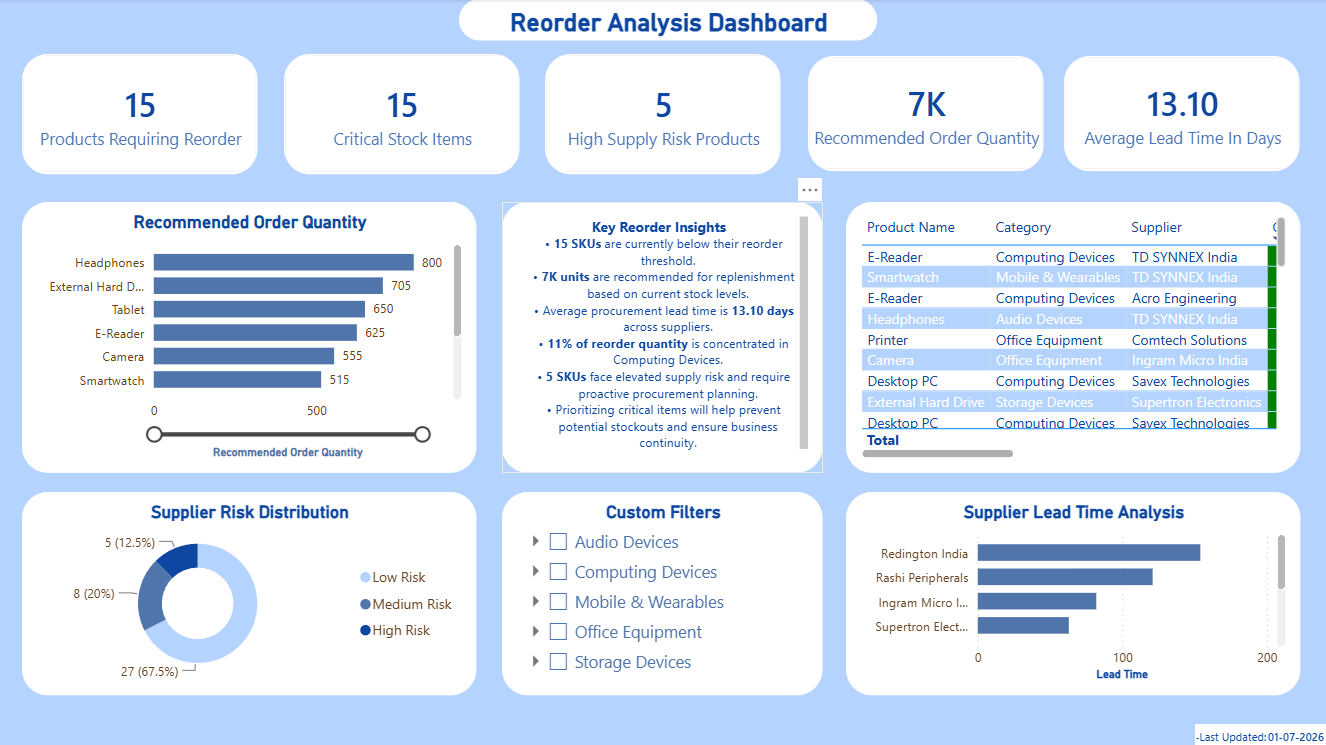

Layout of this report page (visuals, bound fields, positions):
{"tool":"powerbi","page":{"name":"REORDER ANALYSIS","canvas":[1280,720],"ordinal":4},"visuals":[{"type":"cardVisual","fields":{"Data":["public sales.Products Requiring Reorder"]},"box":[22.2,53,227.5,115.7],"z":0},{"type":"cardVisual","fields":{"Data":["public products.Last Updated"]},"box":[1222.9,698.8,57.4,21.4],"z":0,"group":"g1"},{"type":"cardVisual","fields":{"Data":["public sales.Total Recommended Order Quantity"]},"box":[779.8,54.9,227.5,110.8],"z":1000},{"type":"cardVisual","fields":{"Data":["public products.Last Updated"]},"box":[1152.8,698.8,70,21.4],"z":1000,"group":"g1"},{"type":"cardVisual","fields":{"Data":["public sales.Critical Stock Items"]},"box":[274.7,53,227.5,115.7],"z":2000},{"type":"cardVisual","fields":{"Data":["public sales.Average Lead Time"]},"box":[1026.5,54.9,227.5,110.8],"z":3000},{"type":"cardVisual","fields":{"Data":["public sales.High Supply Risk"]},"box":[526.3,53,227.5,115.7],"z":4000},{"type":"tableEx","fields":{"Values":["public products.productname","public products.category","public products.supplier","public inventory_dashboard.currentstock","public inventory_dashboard.reorderlevel","public inventory_dashboard.recommended_order_quantity","public inventory_dashboard.average_lead_time","public inventory_dashboard.supply_risk","public inventory_dashboard.reorder_status"]},"box":[816.4,195.7,437.6,261.2],"z":5000},{"type":"clusteredBarChart","title":"Recommended Order Quantity ","fields":{"Category":["public inventory_dashboard.productname","public products.category"],"Y":["Max(public inventory_dashboard.recommended_order_quantity)"]},"box":[22.2,195.7,437.6,261.2],"z":6000},{"type":"clusteredBarChart","title":"Supplier Lead Time Analysis","fields":{"Category":["public inventory_dashboard.supplier"],"Y":["Sum(public inventory_dashboard.average_lead_time)"]},"box":[816.4,475.2,437.6,195.7],"z":7000},{"type":"donutChart","title":"Supplier Risk Distribution","fields":{"Category":["public inventory_dashboard.supply_risk"],"Y":["CountNonNull(public inventory_dashboard.productid)"]},"box":[22.2,475.2,437.6,195.7],"z":8000},{"type":"slicer","title":"Custom Filters","fields":{"Values":["public inventory_dashboard.category","public inventory_dashboard.supplier","public inventory_dashboard.reorder_status","public inventory_dashboard.supply_risk"]},"box":[484.8,475.2,309.4,195.7],"z":9000},{"type":"textbox","box":[484.8,195.7,309.4,261.2],"z":10000},{"type":"textbox","title":"Reorder Analysis Dashboard","box":[443.4,0,402.9,39.5],"z":11000},{"type":"group","id":"g1","title":"Group 2","box":[1152.8,698.8,127.2,21.2],"z":11001}]}

Visuals, with their boxes in screenshot pixels (x1, y1, x2, y2), scaled from the page's 1280x720 canvas onto the 1326x745 screenshot:
cardVisual - public sales.Products Requiring Reorder: x1=23, y1=55, x2=259, y2=175
cardVisual - public products.Last Updated: x1=1267, y1=723, x2=1325, y2=744
cardVisual - public sales.Total Recommended Order Quantity: x1=808, y1=57, x2=1043, y2=171
cardVisual - public products.Last Updated: x1=1194, y1=723, x2=1267, y2=744
cardVisual - public sales.Critical Stock Items: x1=285, y1=55, x2=520, y2=175
cardVisual - public sales.Average Lead Time: x1=1063, y1=57, x2=1299, y2=171
cardVisual - public sales.High Supply Risk: x1=545, y1=55, x2=781, y2=175
tableEx - public products.productname x public products.category: x1=846, y1=202, x2=1299, y2=473
"Recommended Order Quantity " clusteredBarChart: x1=23, y1=202, x2=476, y2=473
"Supplier Lead Time Analysis" clusteredBarChart: x1=846, y1=492, x2=1299, y2=694
"Supplier Risk Distribution" donutChart: x1=23, y1=492, x2=476, y2=694
"Custom Filters" slicer: x1=502, y1=492, x2=823, y2=694
textbox: x1=502, y1=202, x2=823, y2=473
"Reorder Analysis Dashboard" textbox: x1=459, y1=0, x2=877, y2=41
"Group 2" group: x1=1194, y1=723, x2=1325, y2=744
